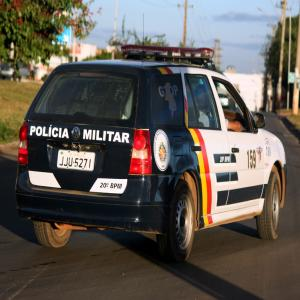Vehicle-registration-plate: (58, 151, 96, 173)
